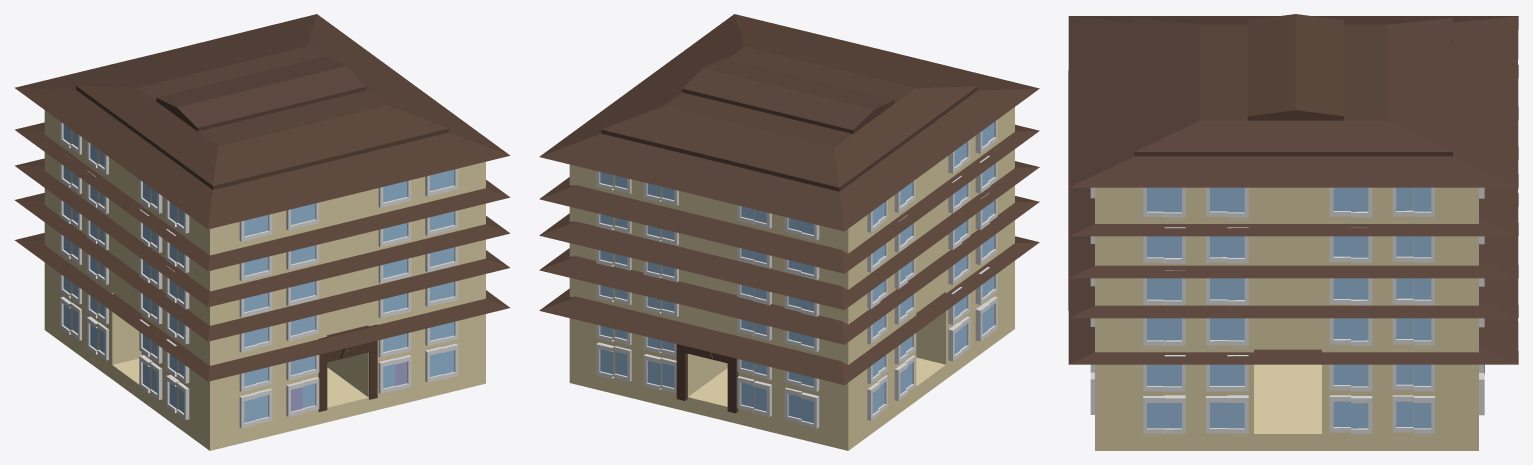
The model's file is Gedung_A 2.fbx.
3 views of the same model, side by side, from view 1: azimuth 30°, elevation 25°; view 2: azimuth 150°, elevation 25°; view 3: azimuth 270°, elevation 25° (orthographic). The views are drawn at different scales.
Visible parts, largest first — view 1: Cube; view 2: Cube; view 3: Cube.
Boxes of the visible parts, x1,y1,x2,y2 form: Cube: (14,14,510,450); Cube: (539,14,1039,450); Cube: (1068,14,1518,450).
Size of the model in its own units: 4358 by 3679 by 4832.
